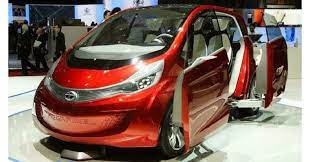Nano: (34, 4, 288, 158)
